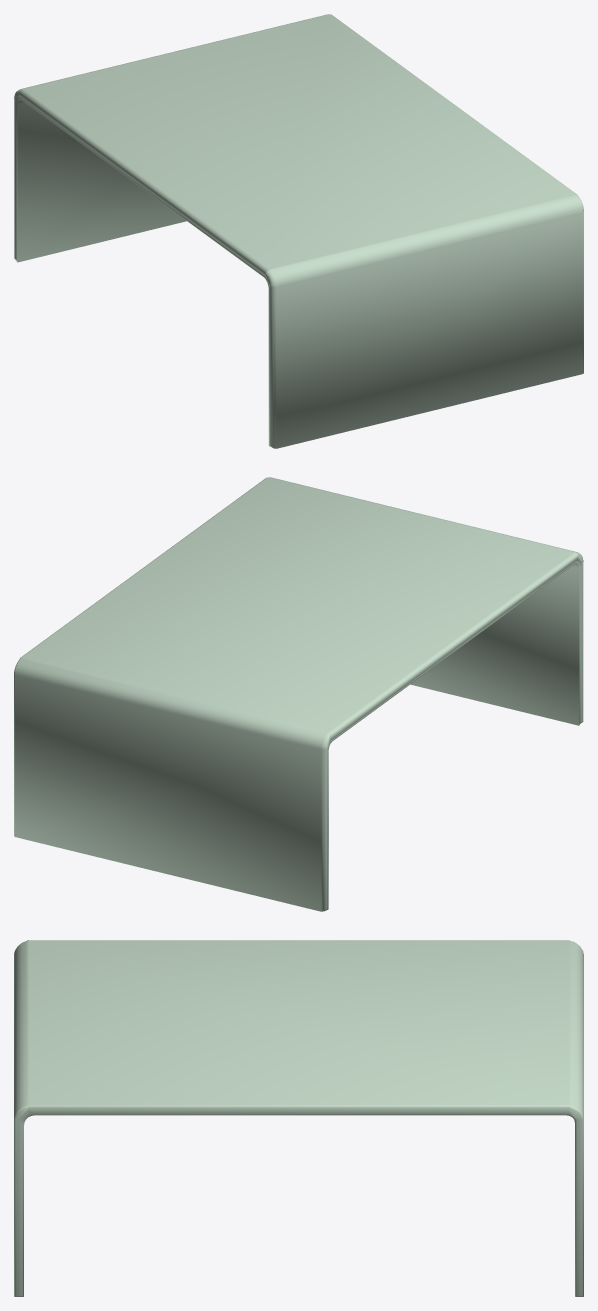
File: ND-0727__Burano.glb
The picture shows the model from 3 angles, top to bottom: view 1: azimuth 30°, elevation 25°; view 2: azimuth 150°, elevation 25°; view 3: azimuth 270°, elevation 25°; orthographic projection. The views are drawn at different scales.
Visible parts, largest first — view 1: Cube; view 2: Cube; view 3: Cube.
Boxes of the visible parts, left/top/right/bottom form: Cube: left=14, top=14, right=583, bottom=448; Cube: left=14, top=477, right=583, bottom=911; Cube: left=14, top=940, right=583, bottom=1296.
Size of the model in its own units: 4.16 by 2.22 by 5.98.
